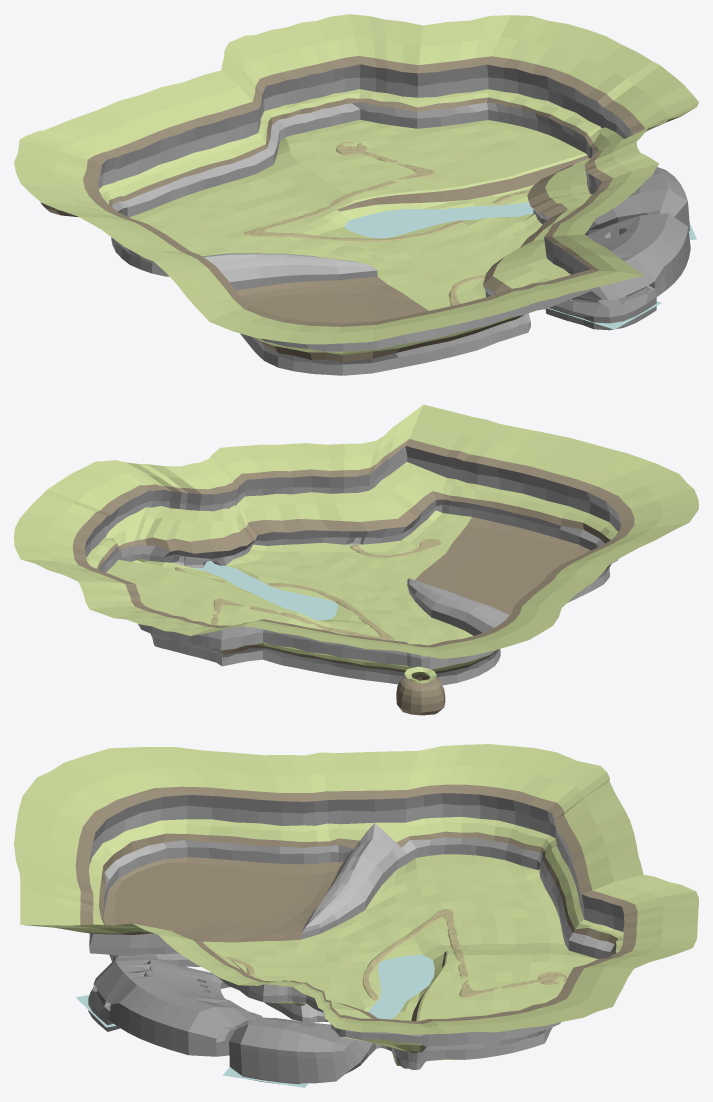
Rendered from Land.fbx.
3 views of the same model, one above another, from view 1: azimuth 30°, elevation 25°; view 2: azimuth 150°, elevation 25°; view 3: azimuth 270°, elevation 25° (orthographic). The views are drawn at different scales.
Visible parts, largest first — view 1: Land, Cave, Water, Path; view 2: Land, Water, Path; view 3: Land, Cave, Water, Path.
Boxes of the visible parts, x1,y1,x2,y2 form: Land: (14,14,698,375); Cave: (545,167,690,330); Water: (344,202,696,329); Path: (244,142,529,305); Land: (14,404,698,715); Water: (194,561,338,620); Path: (175,539,440,640); Land: (14,744,698,1069); Cave: (88,957,381,1084); Water: (76,955,434,1087); Path: (225,909,567,1050).
Size of the model in its own units: 58938 by 8001 by 58810.
